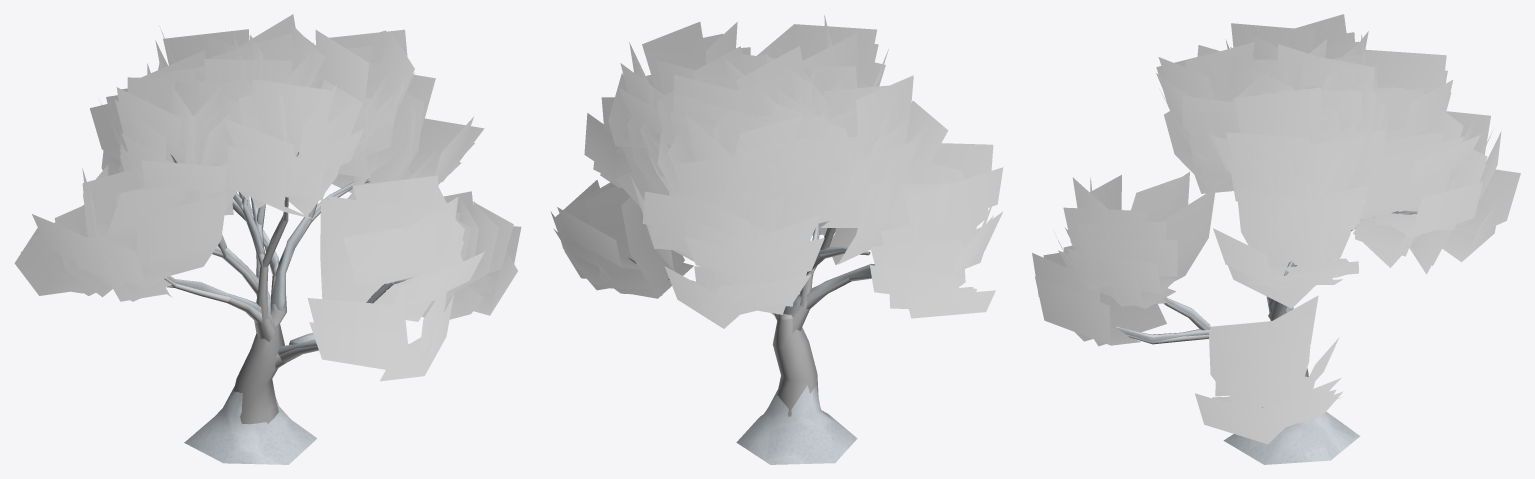
Rendered from Tree_Medium_2_Snow.fbx.
3 views of the same model, side by side, from view 1: azimuth 30°, elevation 25°; view 2: azimuth 150°, elevation 25°; view 3: azimuth 270°, elevation 25° (orthographic). The views are drawn at different scales.
Parts seen in each view (by area): view 1: Tree_Medium_2_Snow_LOD0, Tree_Medium_2_Snow_Colider; view 2: Tree_Medium_2_Snow_LOD0, Tree_Medium_2_Snow_Colider; view 3: Tree_Medium_2_Snow_LOD0.
Boxes of the visible parts, box(x1,y1,x2,y2) form: Tree_Medium_2_Snow_LOD0: box(14, 14, 521, 464); Tree_Medium_2_Snow_Colider: box(233, 324, 284, 424); Tree_Medium_2_Snow_LOD0: box(550, 15, 1003, 464); Tree_Medium_2_Snow_Colider: box(772, 318, 821, 416); Tree_Medium_2_Snow_LOD0: box(1032, 14, 1520, 464).
Size of what is drawn, in the model's own units: 1686 by 1314 by 1464.
